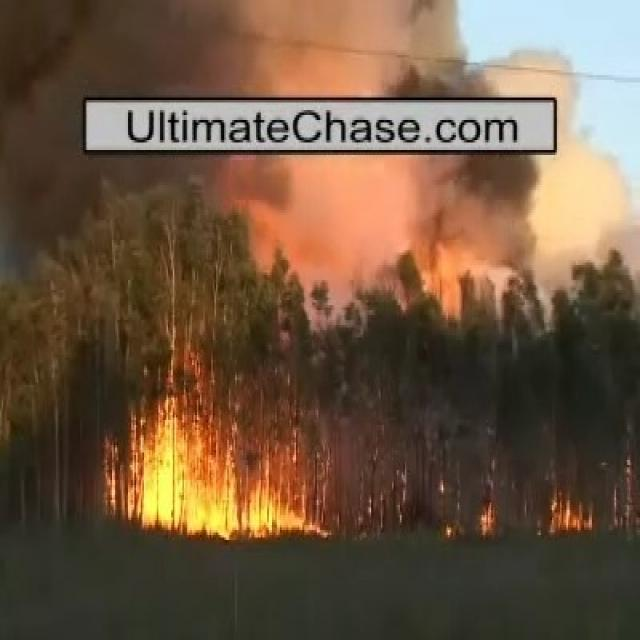fire: (140, 413, 296, 535)
smoke: (40, 8, 473, 92), (271, 156, 569, 270)
